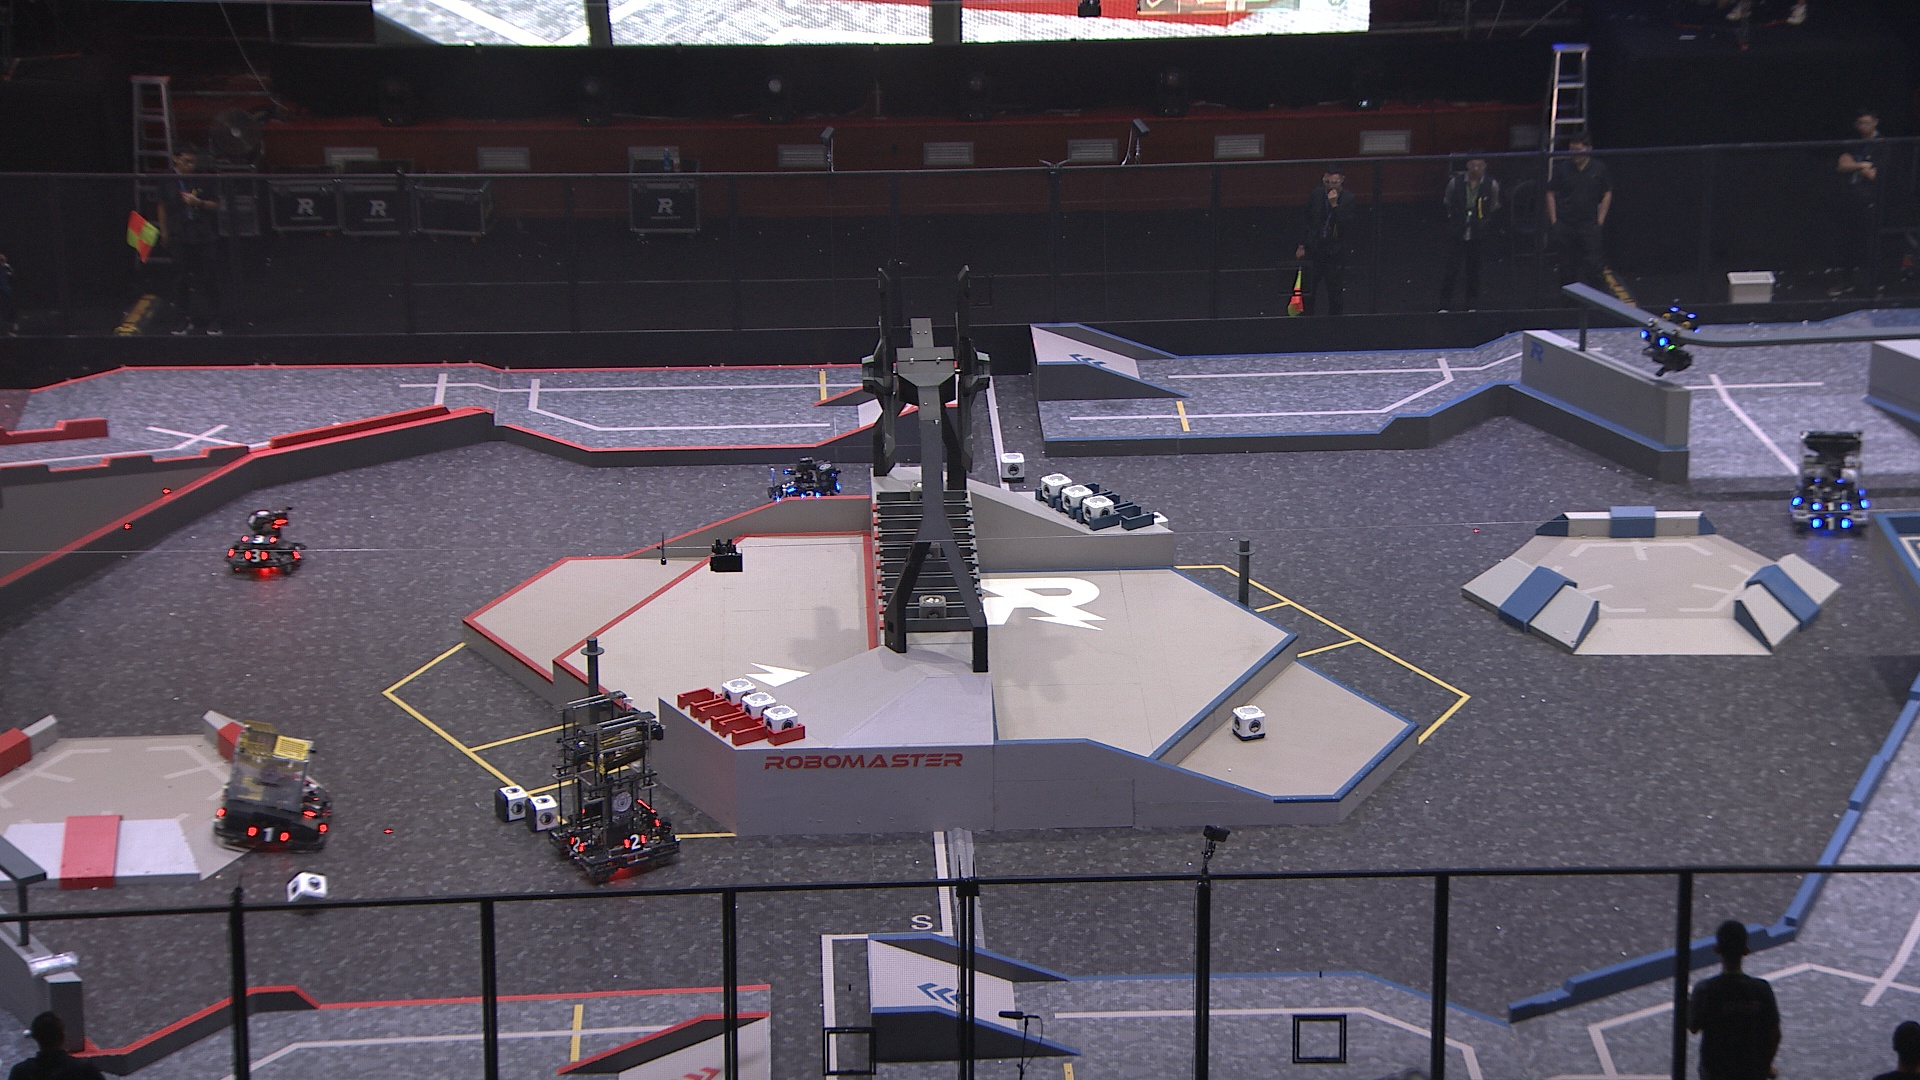armor: (243, 822, 291, 847), (1809, 513, 1851, 531), (1808, 498, 1850, 514), (1640, 328, 1671, 349), (301, 793, 324, 818), (239, 547, 272, 564), (239, 531, 277, 546), (621, 832, 647, 851), (1789, 485, 1807, 510), (567, 832, 585, 855), (779, 476, 798, 495), (798, 489, 823, 502), (289, 543, 305, 560)
car: (545, 688, 683, 880), (207, 723, 334, 856), (1785, 425, 1871, 535), (225, 504, 310, 578), (767, 452, 845, 513)
watcher: (1634, 294, 1706, 377)
